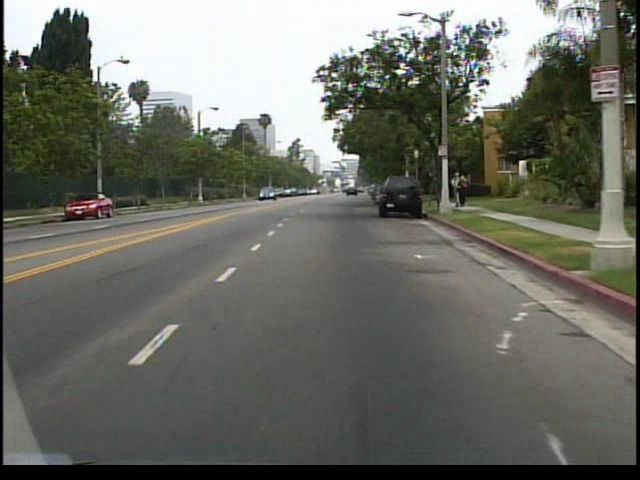person: (449, 169, 465, 210), (457, 173, 471, 208)
